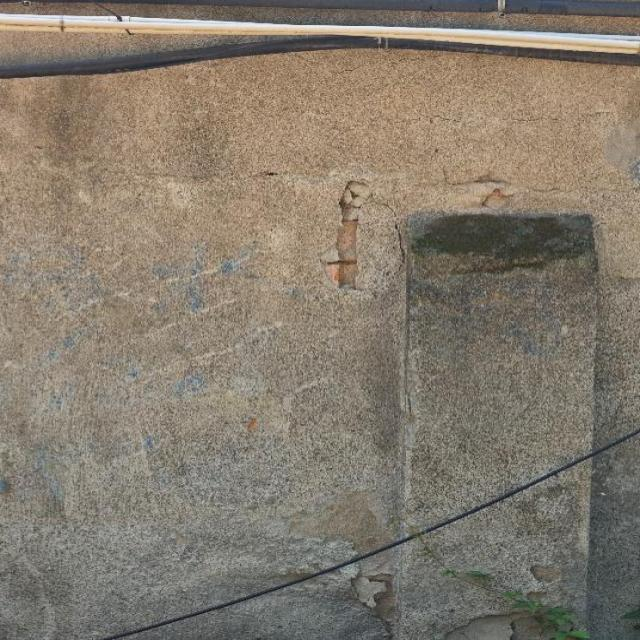mildew: (392, 201, 611, 278)
spalling: (301, 173, 410, 311), (325, 565, 403, 637), (470, 184, 526, 216)
